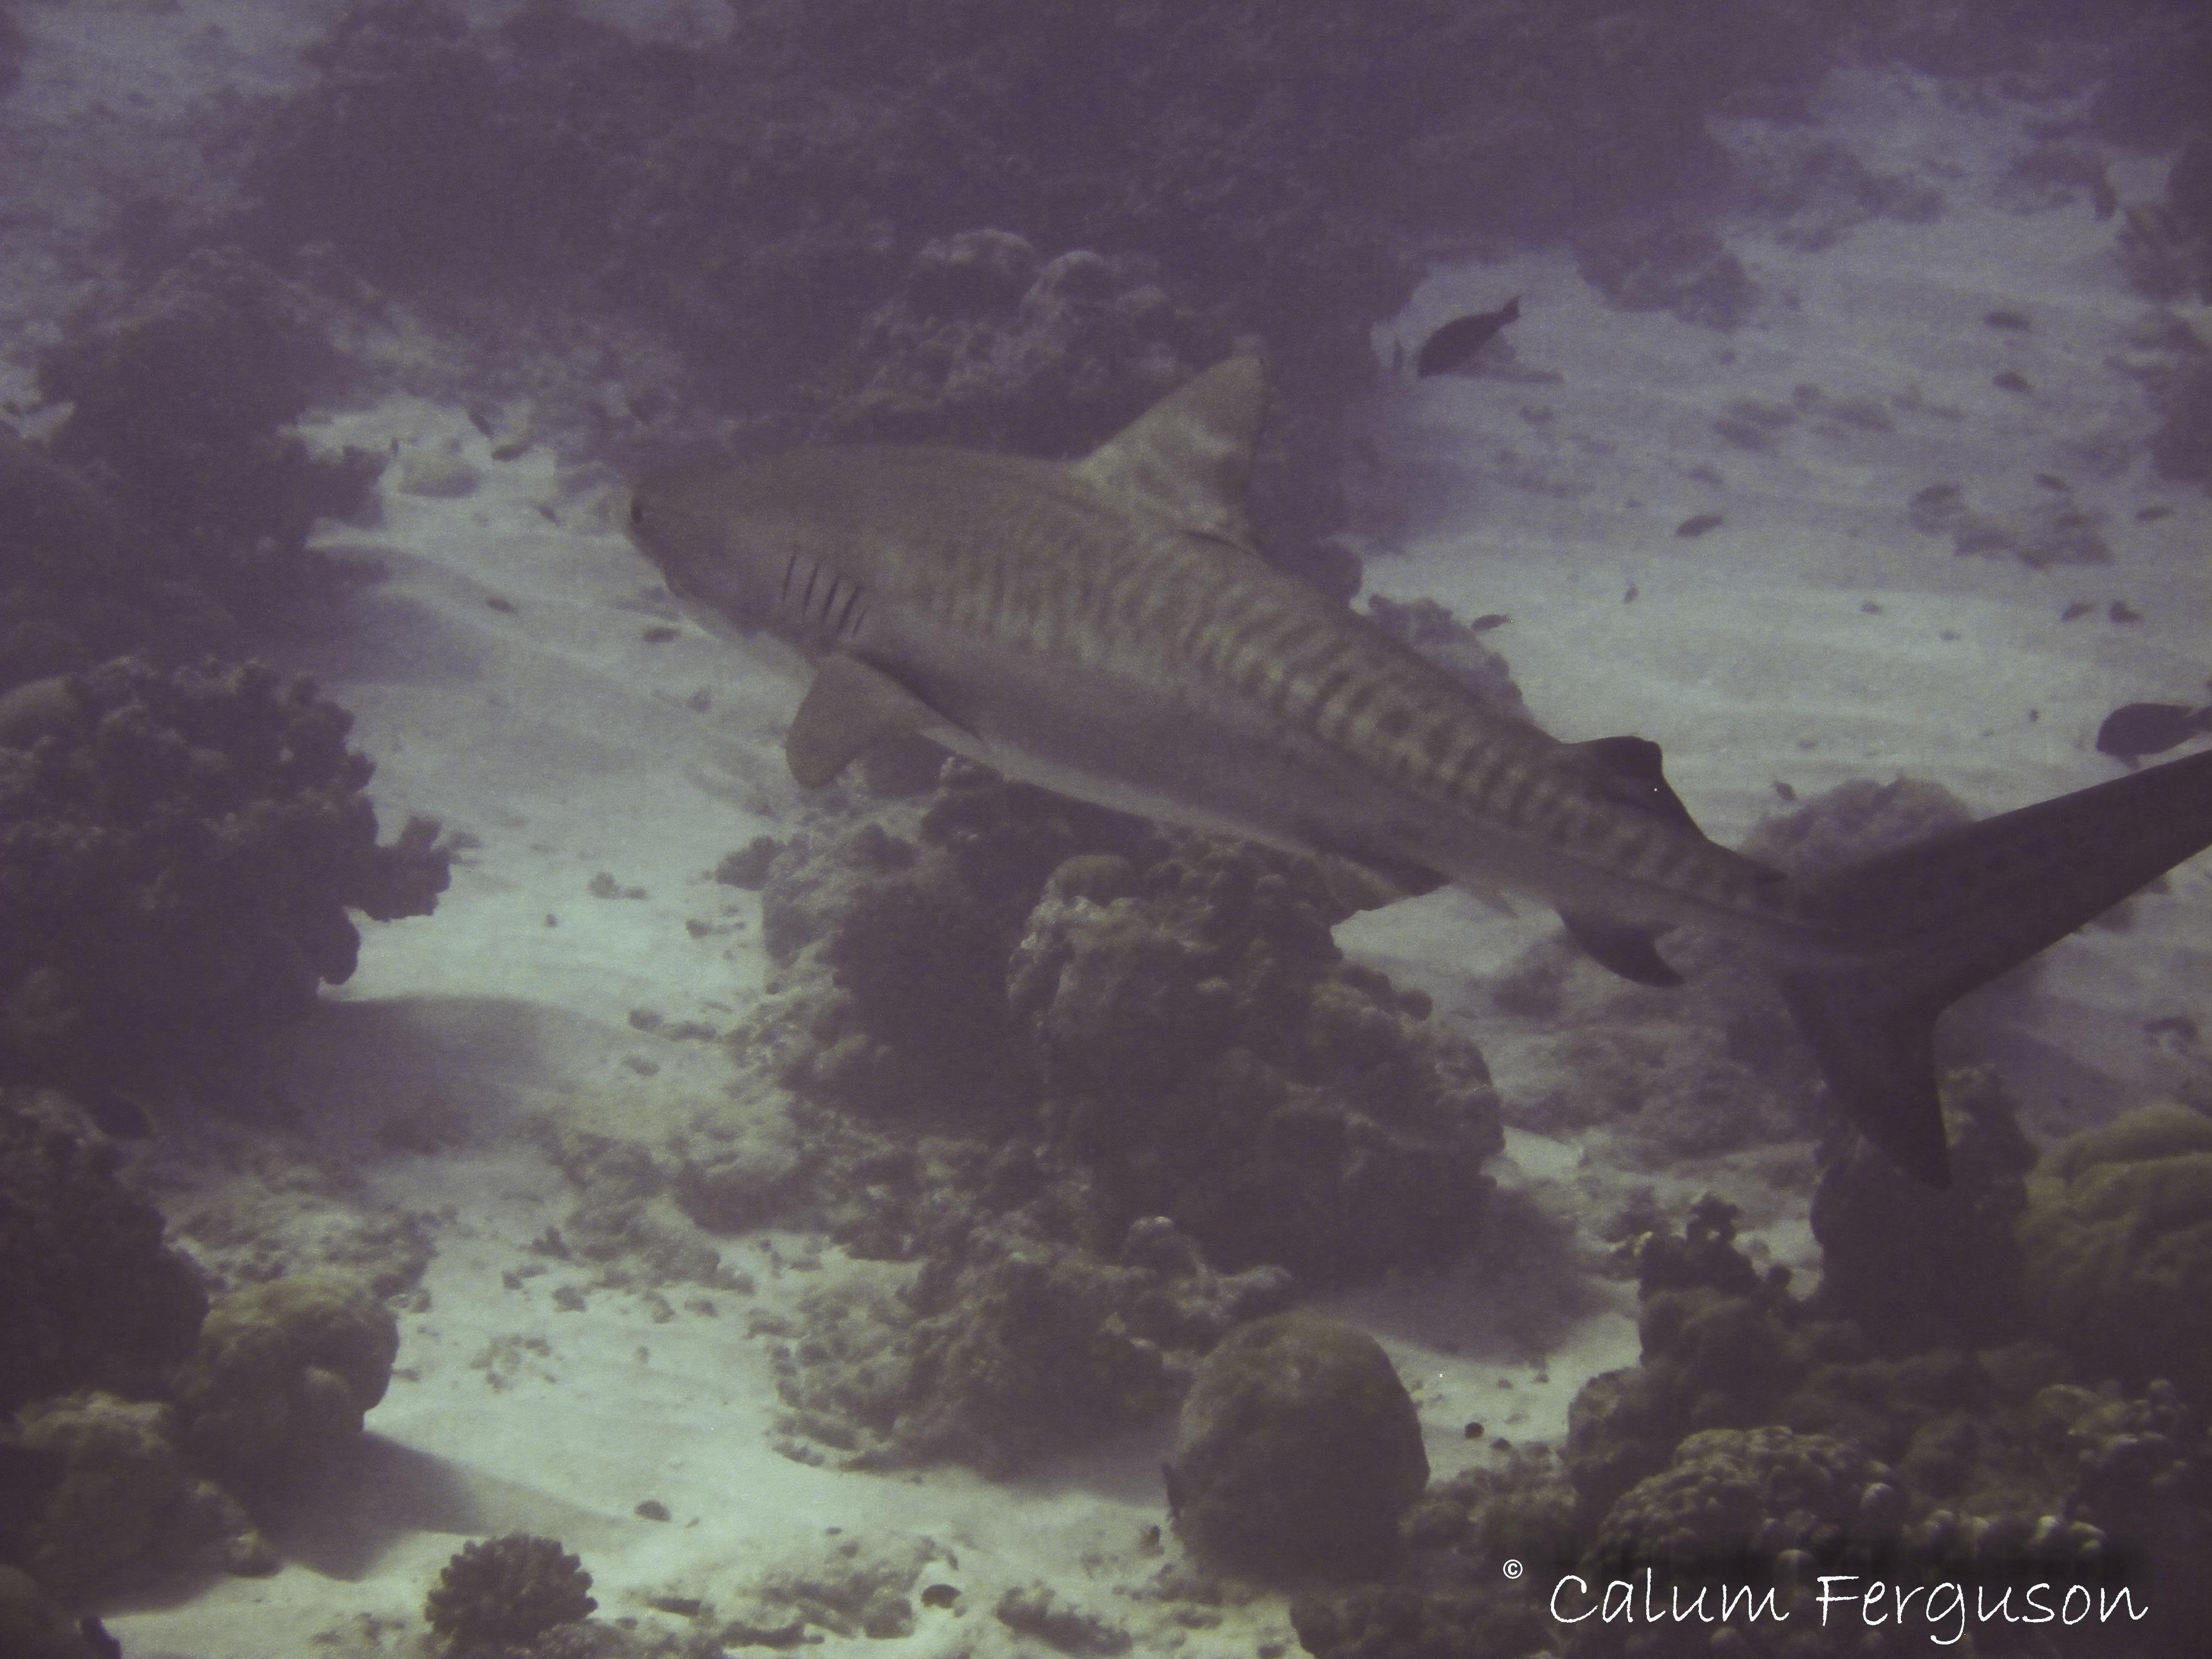Fish: (592, 307, 2212, 1159)
